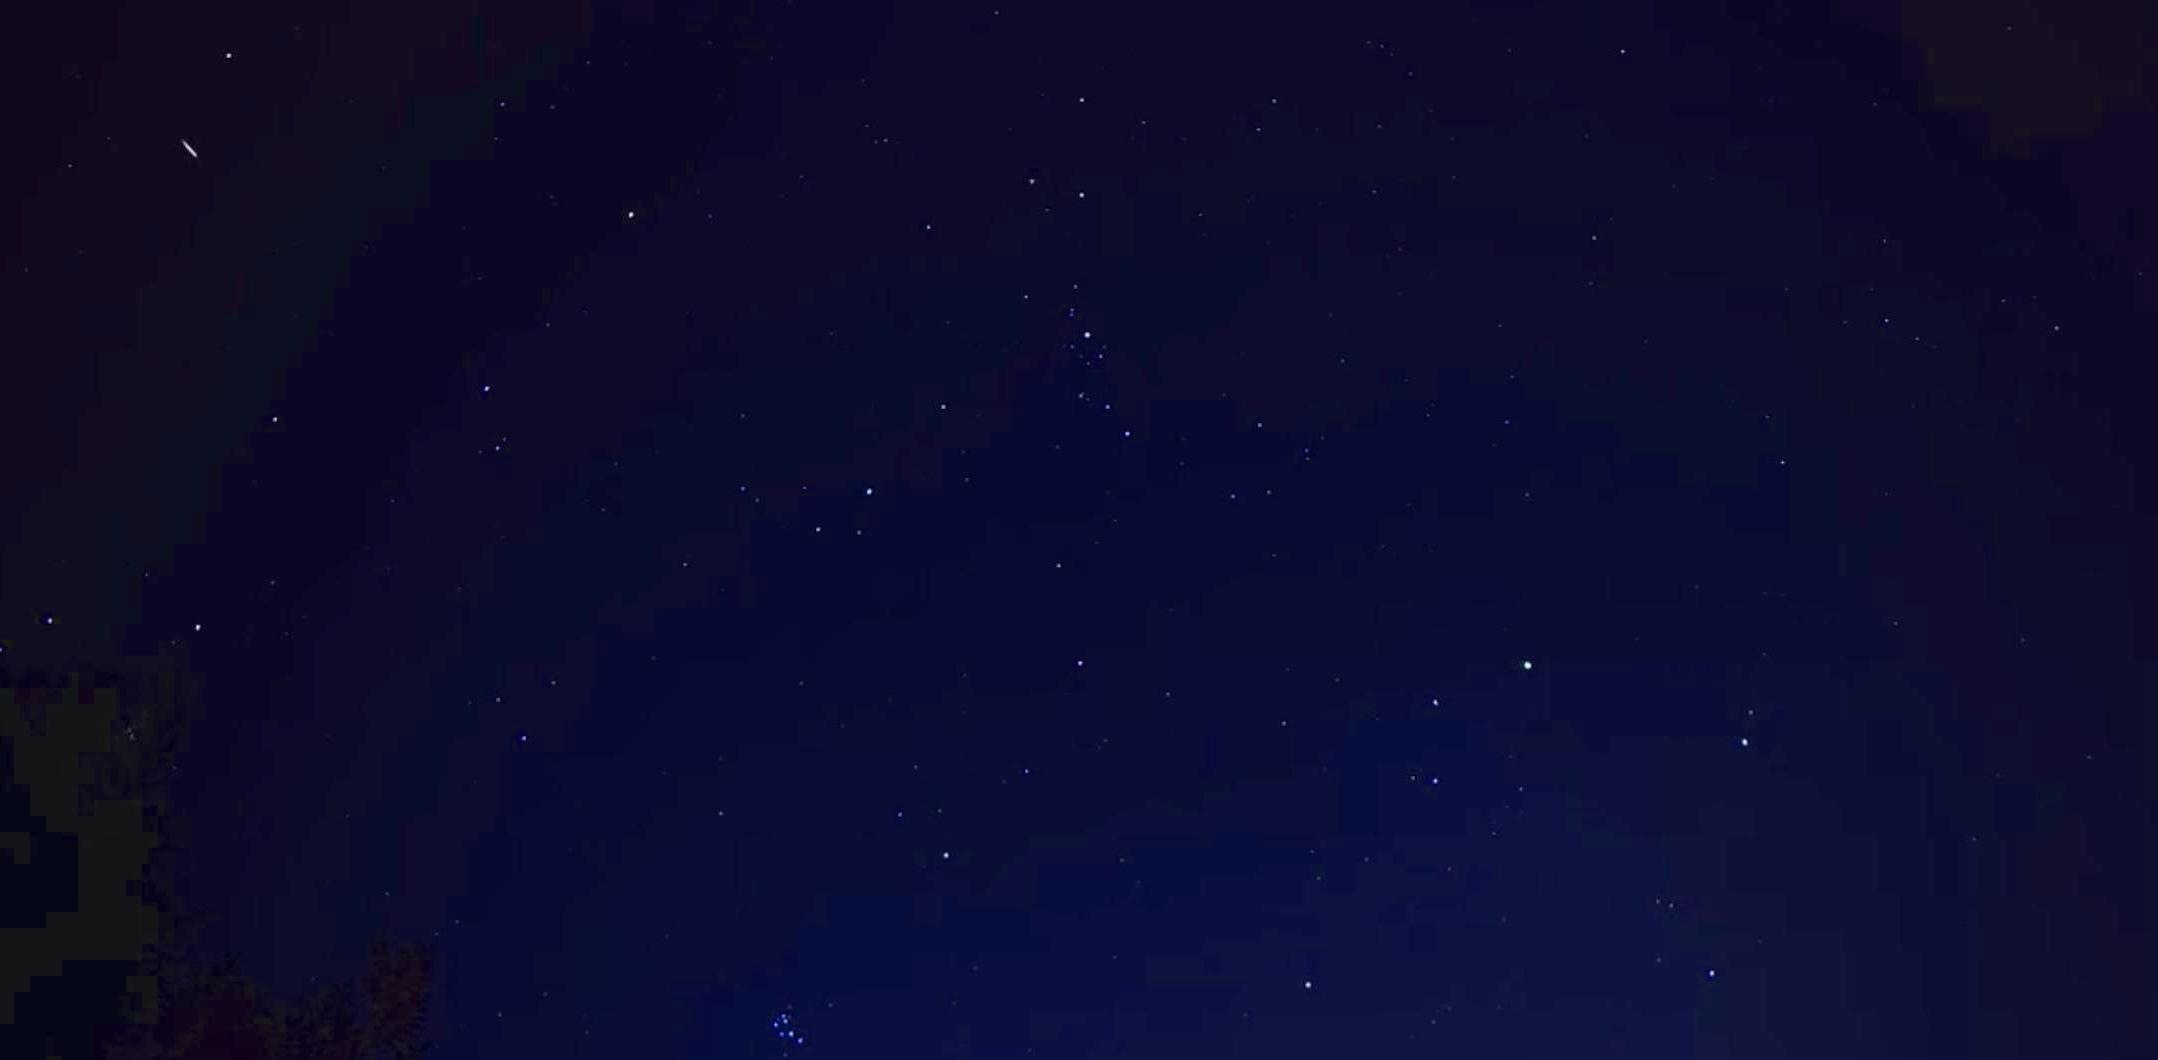meteorite: (151, 123, 224, 178)
